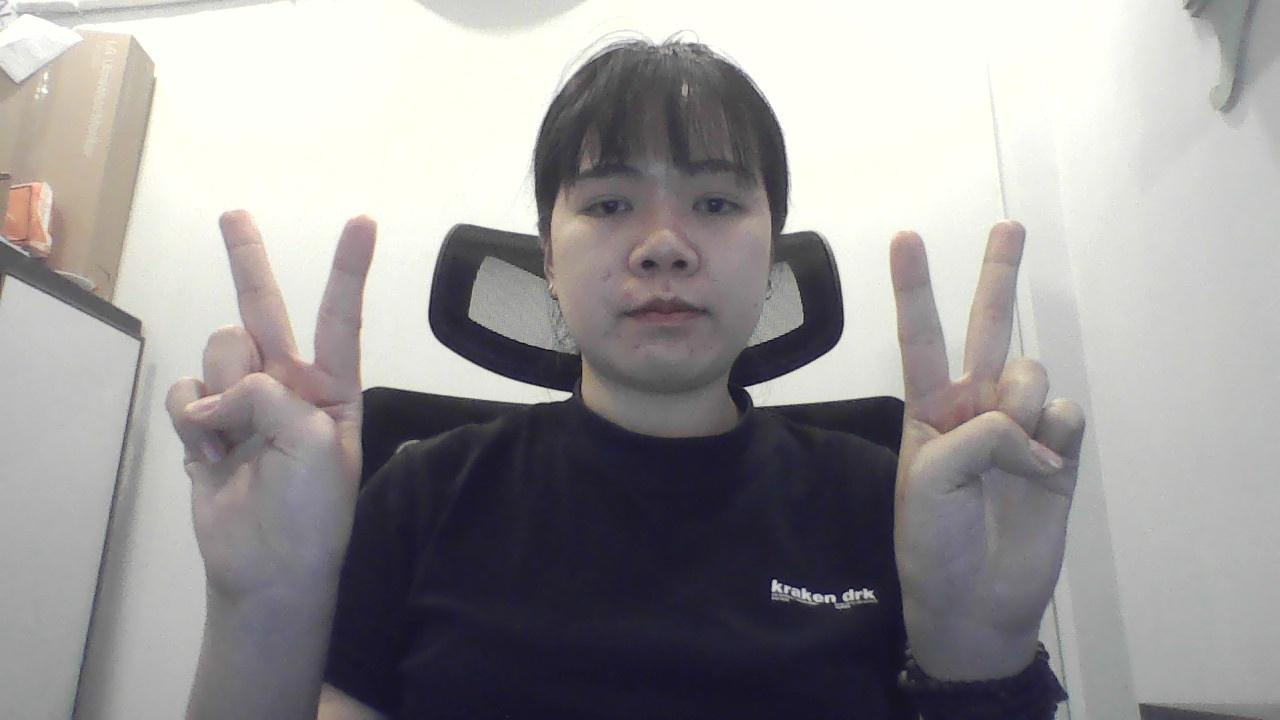V: (846, 194, 1115, 637), (168, 195, 374, 598)
